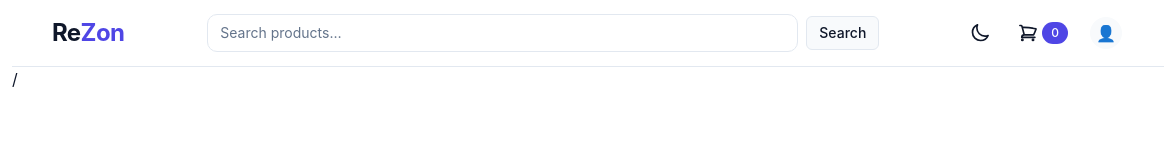
Scenario: Header › navigates to /products?search=... on search submit
This screenshot has width=1164, height=160.
Type "  wireless mouse  " into the search field labelled "Search products…" at (503, 33), box [207, 14, 798, 52]
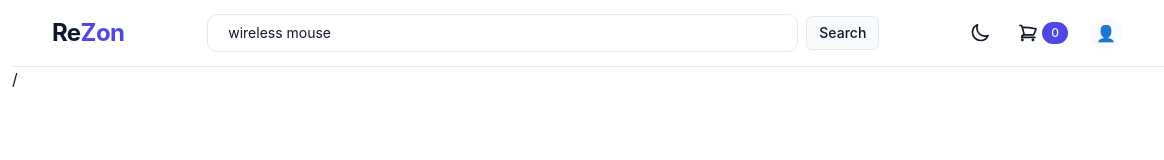
Click the button "Search" at (843, 33), box [806, 16, 879, 50]
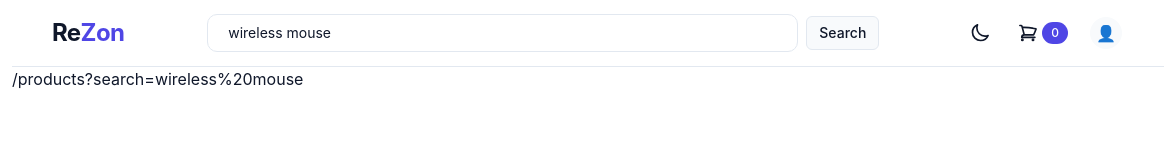
Now the text with test id "location" reads "/products?search=wireless%20mouse", box [12, 69, 303, 89]
